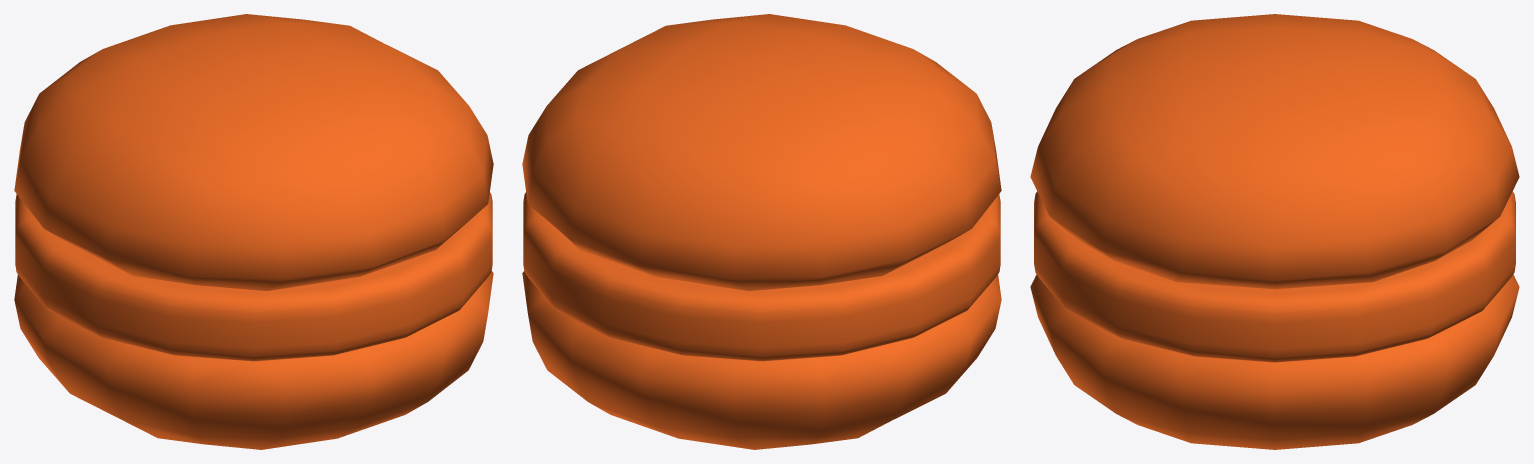
The model's file is HamburgerLvl1.FBX.
3 views of the same model, side by side, from view 1: azimuth 30°, elevation 25°; view 2: azimuth 150°, elevation 25°; view 3: azimuth 270°, elevation 25° (orthographic).
Parts seen in each view (by area): view 1: HamburgerEzikLVL; view 2: HamburgerEzikLVL; view 3: HamburgerEzikLVL.
Boxes of the visible parts, x1,y1,x2,y2 form: HamburgerEzikLVL: (14,14,493,449); HamburgerEzikLVL: (522,14,1001,449); HamburgerEzikLVL: (1030,14,1519,449).
Size of the model in its own units: 154 by 120 by 154.
